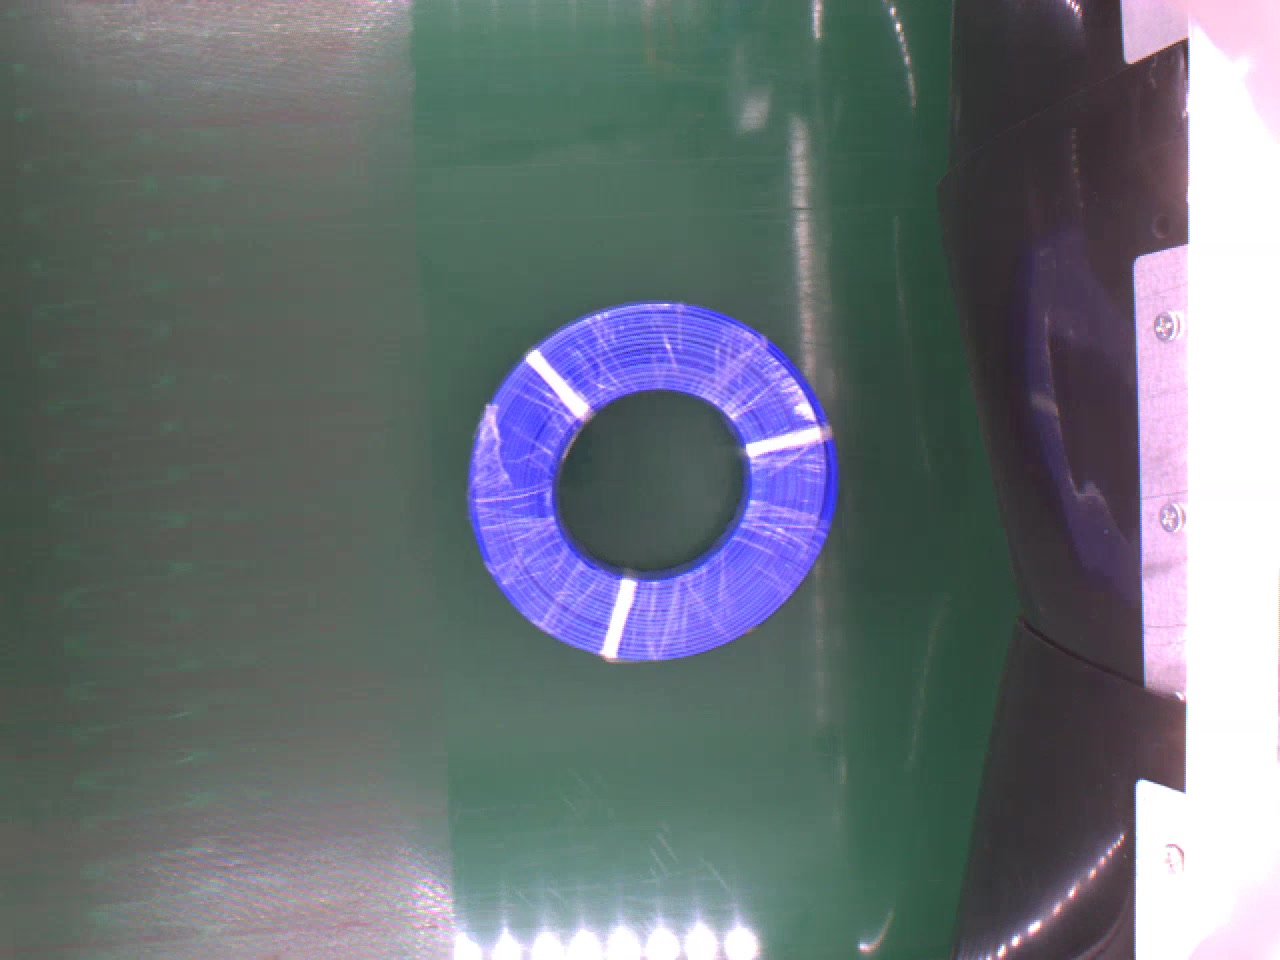blue: (461, 301, 839, 666)
